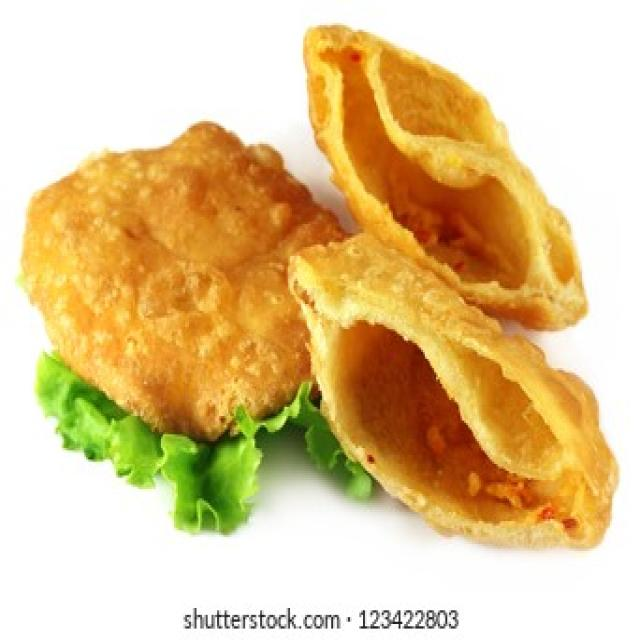POORI: (22, 26, 619, 554)
